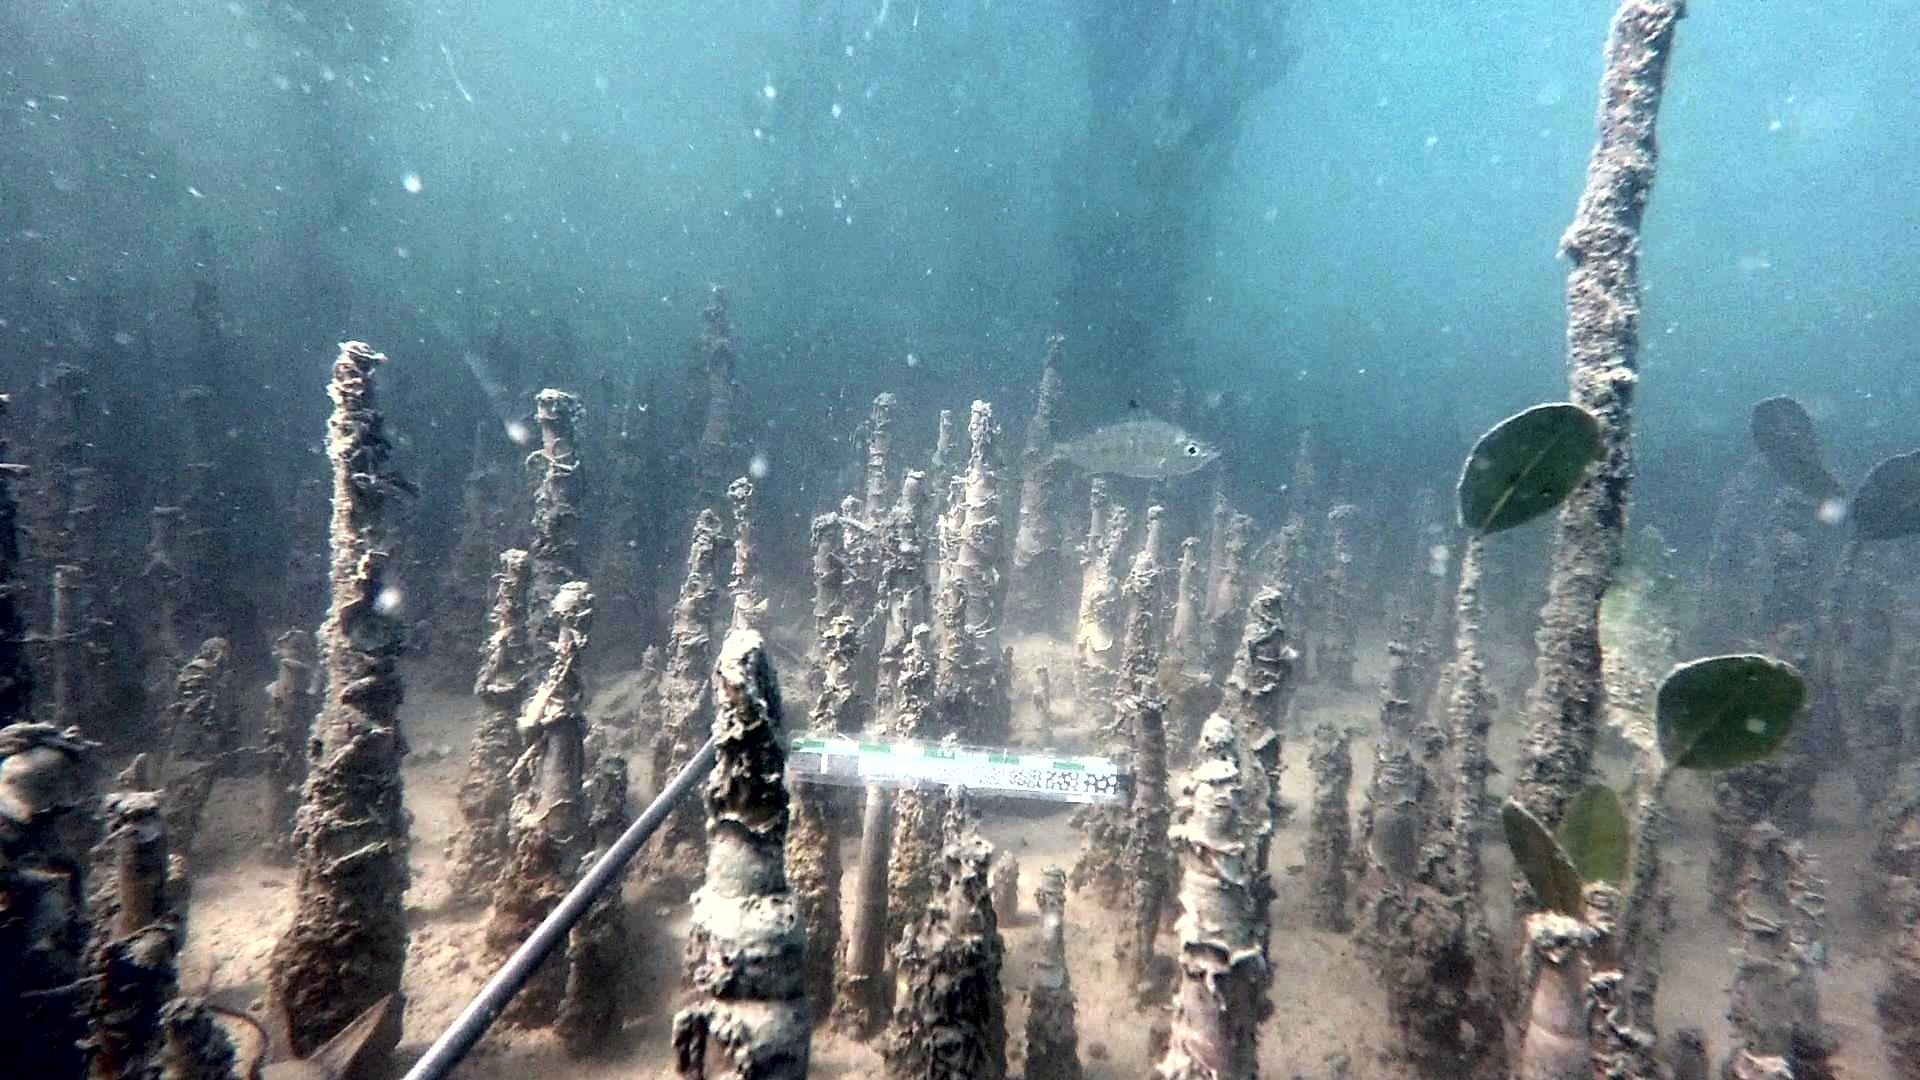gerres: (1025, 398, 1222, 481)
